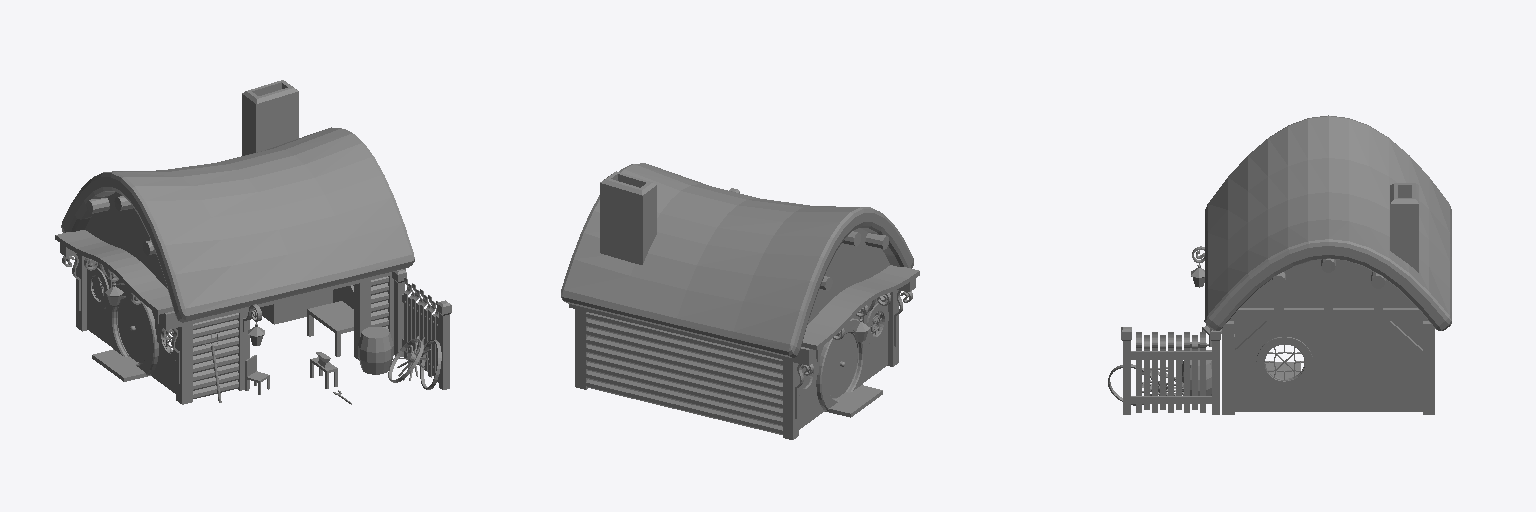
File: casa8.obj
3 renders of one model, left to right at view 1: azimuth 30°, elevation 25°; view 2: azimuth 150°, elevation 25°; view 3: azimuth 270°, elevation 25°, orthographic.
Parts seen in each view (by area): view 1: Object_Blksmith_jpg; view 2: Object_Blksmith_jpg; view 3: Object_Blksmith_jpg.
Part boxes in pixels (left/top/right/bottom): Object_Blksmith_jpg: left=55, top=80, right=451, bottom=404; Object_Blksmith_jpg: left=561, top=163, right=919, bottom=439; Object_Blksmith_jpg: left=1108, top=115, right=1451, bottom=414.
Size of the model in its own units: 2.09 by 1.65 by 2.5.